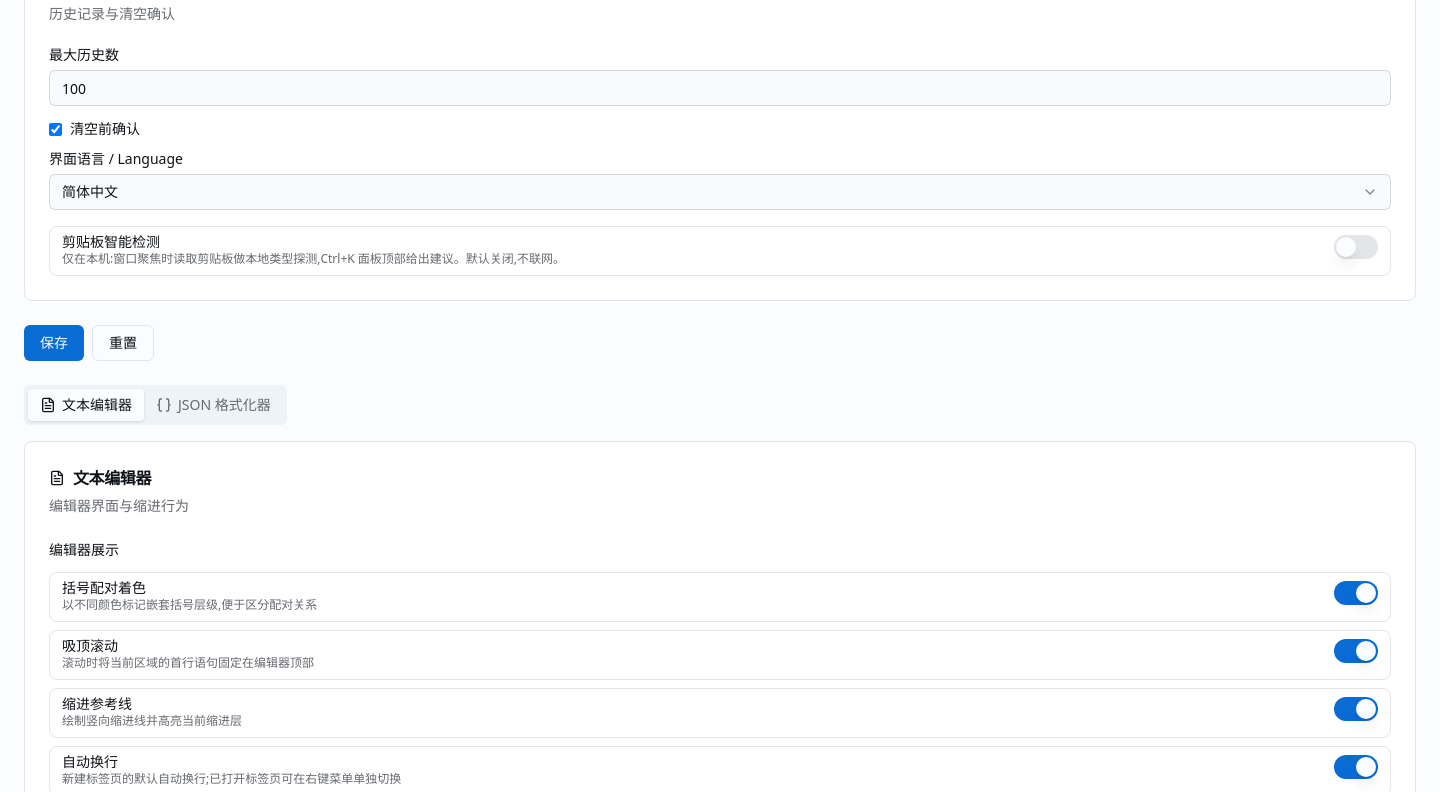
it: SettingsPanel › renders without crashing when config lacks tool_prefs (legacy persisted config)
The image size is (1440, 792).
(page scrolled)
Press the mouse on the tab with test id "tool-tab-json_formatter": (213, 405) [144,389,283,421]
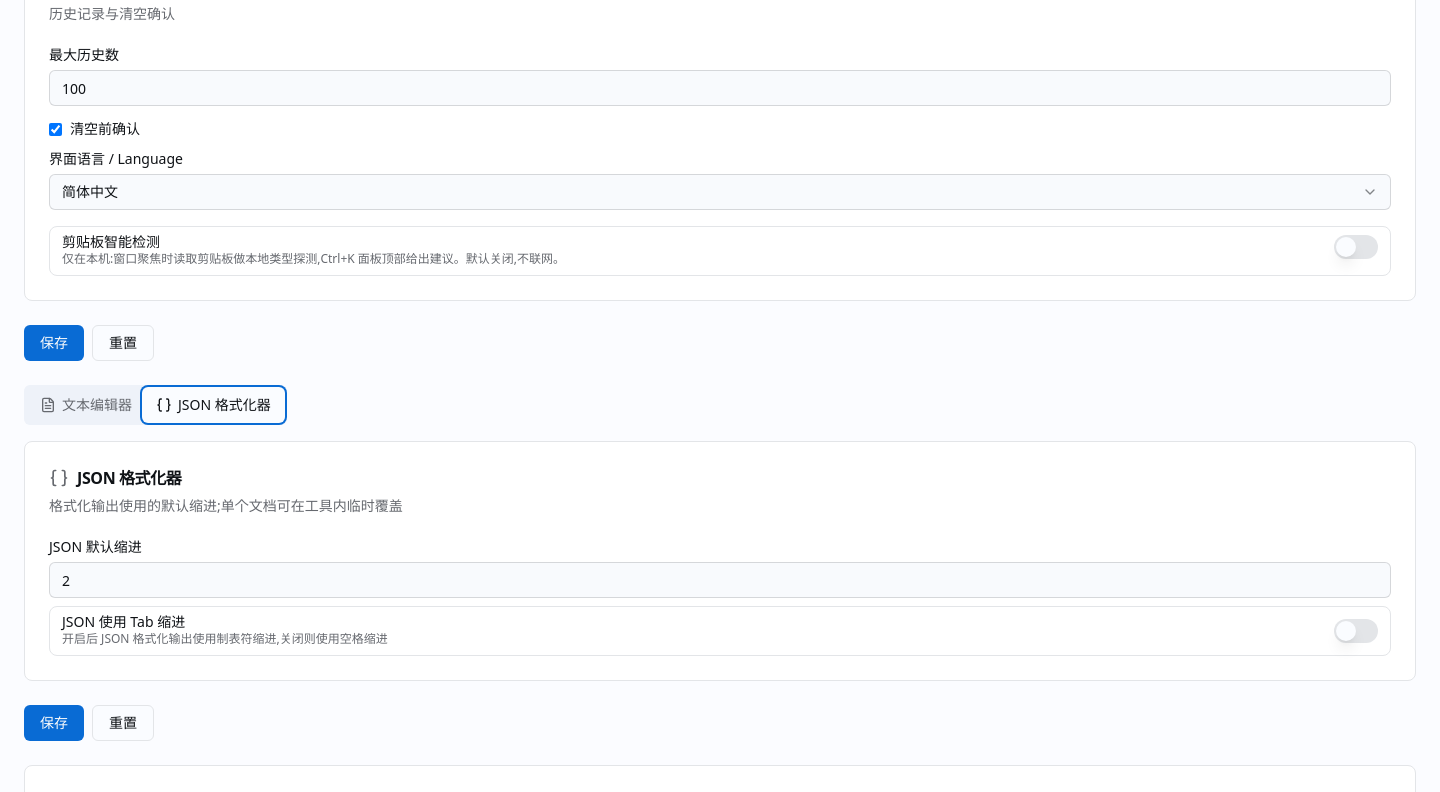
Now the number field labelled "JSON 默认缩进" holds "2", box [49,562,1391,598]
